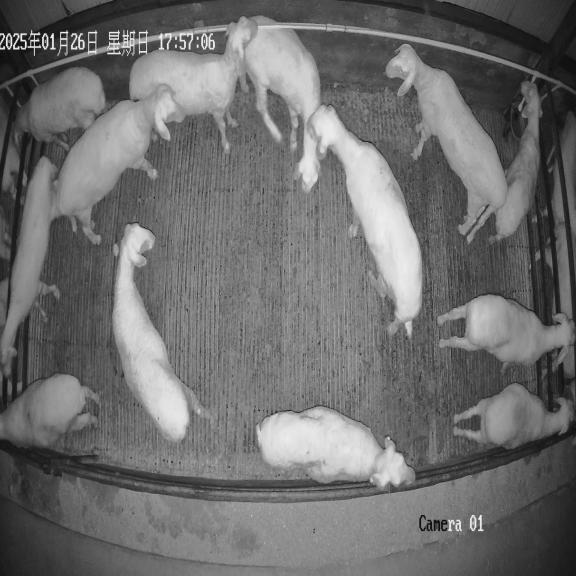drinking: (12, 67, 106, 156)
stand: (310, 105, 422, 337), (385, 44, 507, 234), (112, 223, 209, 442), (56, 84, 180, 244), (129, 17, 258, 154), (244, 16, 321, 192), (256, 406, 415, 490), (0, 156, 60, 377), (437, 295, 576, 369), (489, 82, 540, 242), (453, 383, 574, 449), (0, 373, 99, 448)
